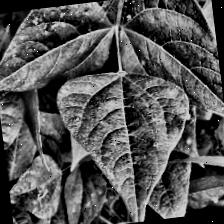Bean Rust: (52, 65, 198, 224), (0, 0, 129, 102), (123, 0, 224, 129), (0, 57, 36, 221)
